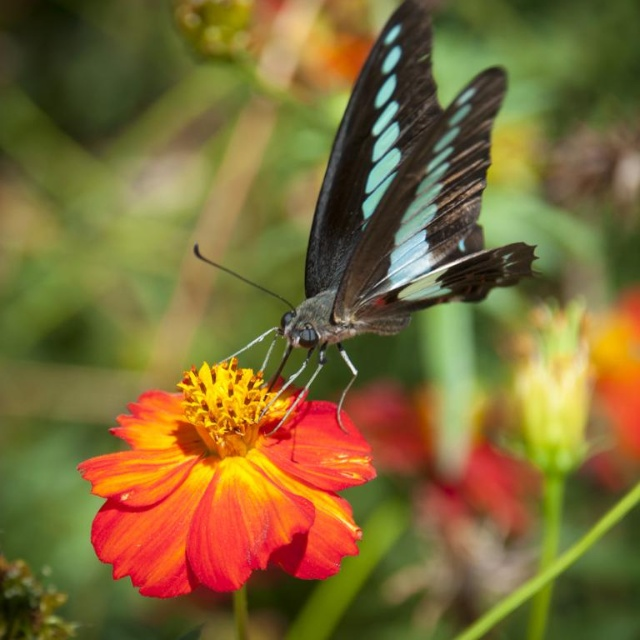Butterfly: (192, 0, 542, 437)
